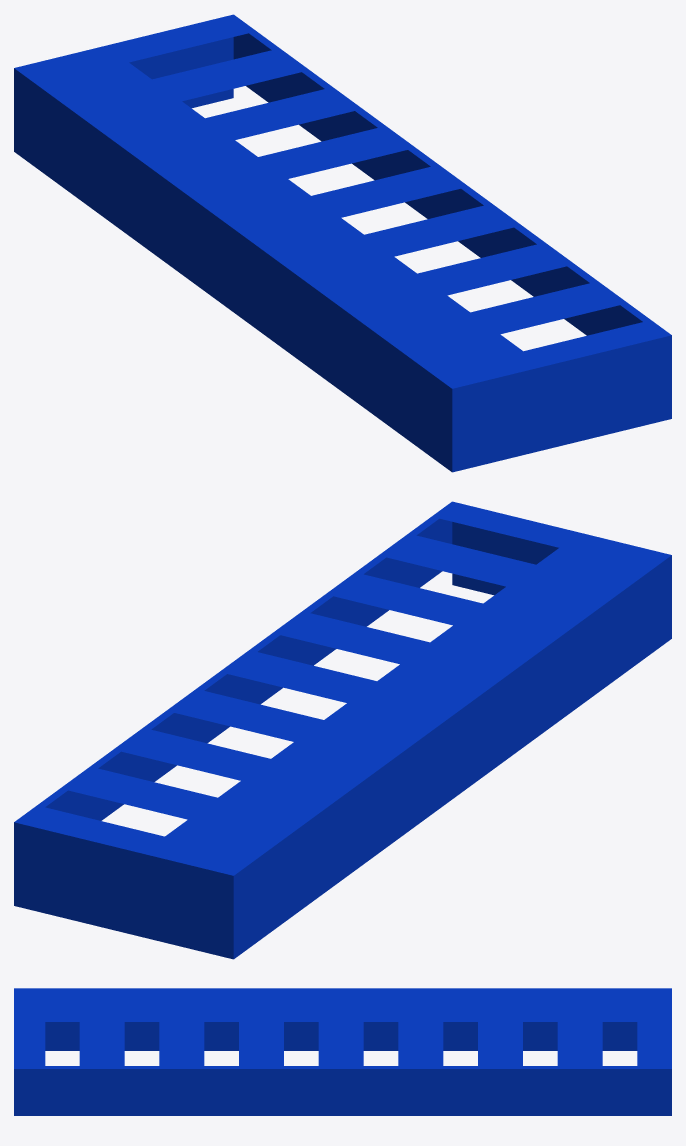
File: zatana_terra_base_vis_39.dae
The picture shows the model from 3 angles, top to bottom: view 1: azimuth 30°, elevation 25°; view 2: azimuth 150°, elevation 25°; view 3: azimuth 270°, elevation 25°; orthographic projection. The views are drawn at different scales.
Visible parts, largest first — view 1: Node_00000231837435E0; view 2: Node_00000231837435E0; view 3: Node_00000231837435E0.
Part boxes in pixels (left/top/right/bottom): Node_00000231837435E0: left=14, top=14, right=671, bottom=472; Node_00000231837435E0: left=14, top=501, right=671, bottom=959; Node_00000231837435E0: left=14, top=988, right=671, bottom=1115.
Bounding box in the file's own units: 0.00703 × 0.00256 × 0.0243.
